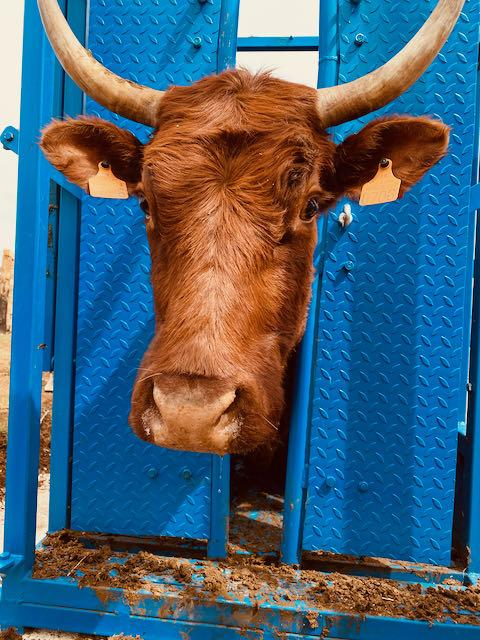muzzles: (134, 363, 251, 459)
